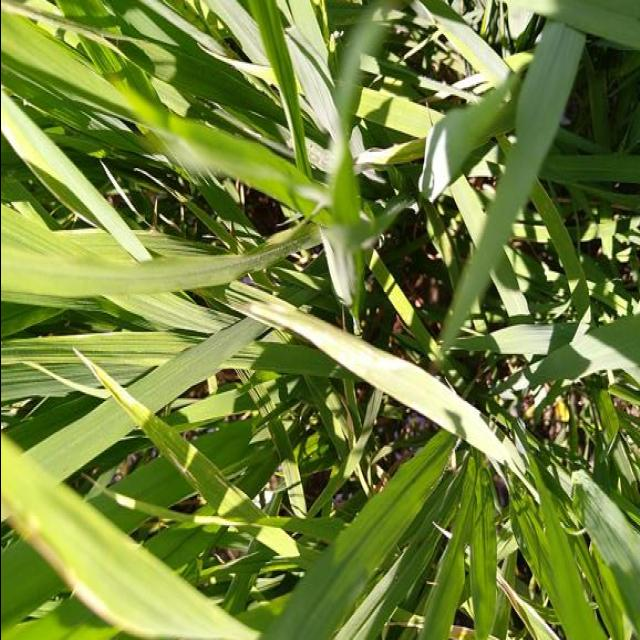Leaf Blight: (0, 434, 246, 634)
Leaf Streak: (73, 348, 228, 510)
